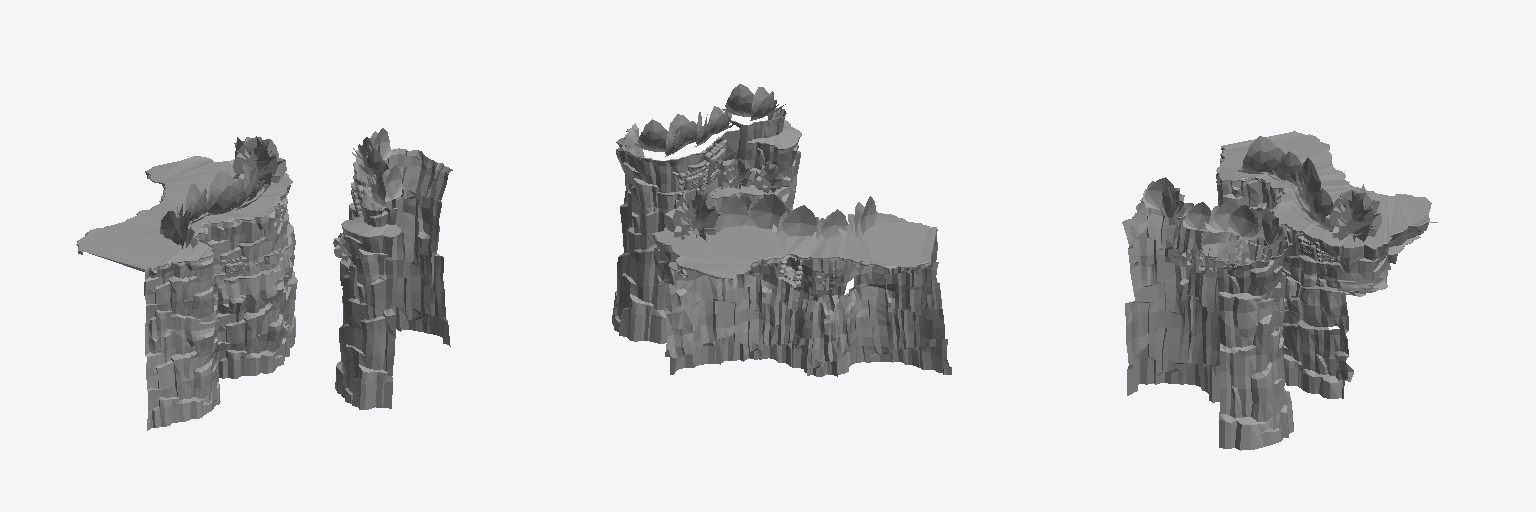
File: ThwompRuinsNEW.obj
3 renders of one model, left to right at view 1: azimuth 30°, elevation 25°; view 2: azimuth 150°, elevation 25°; view 3: azimuth 270°, elevation 25°, orthographic.
Visible parts, largest first — view 1: Wall_1__di_rock, Low_Grass_04__di_Grass1, LowLeaves__di_Tree_Leaf, Grass_Multi_Back__di_Grass2, polySurface5282__di_rock_Dossun; view 2: Wall_1__di_rock, LowLeaves__di_Tree_Leaf, Low_Grass_04__di_Grass1, Grass_Multi_Back__di_Grass2, polySurface5282__di_rock_Dossun; view 3: Wall_1__di_rock, LowLeaves__di_Tree_Leaf, Low_Grass_04__di_Grass1, Grass_Multi_Back__di_Grass2, polySurface5282__di_rock_Dossun.
Boxes of the visible parts, <box> form: Wall_1__di_rock: <box>78,148,451,430</box>; Low_Grass_04__di_Grass1: <box>77,156,291,271</box>; LowLeaves__di_Tree_Leaf: <box>160,128,403,292</box>; Grass_Multi_Back__di_Grass2: <box>76,152,452,284</box>; polySurface5282__di_rock_Dossun: <box>220,185,385,277</box>; Wall_1__di_rock: <box>612,108,951,376</box>; LowLeaves__di_Tree_Leaf: <box>634,84,876,287</box>; Low_Grass_04__di_Grass1: <box>652,212,937,277</box>; Grass_Multi_Back__di_Grass2: <box>616,113,931,279</box>; polySurface5282__di_rock_Dossun: <box>679,137,802,287</box>; Wall_1__di_rock: <box>1123,148,1428,450</box>; LowLeaves__di_Tree_Leaf: <box>1143,136,1381,269</box>; Low_Grass_04__di_Grass1: <box>1217,131,1437,248</box>; Grass_Multi_Back__di_Grass2: <box>1122,131,1431,330</box>; polySurface5282__di_rock_Dossun: <box>1199,232,1333,270</box>.
Size of the model in its own units: 162 by 101 by 130.